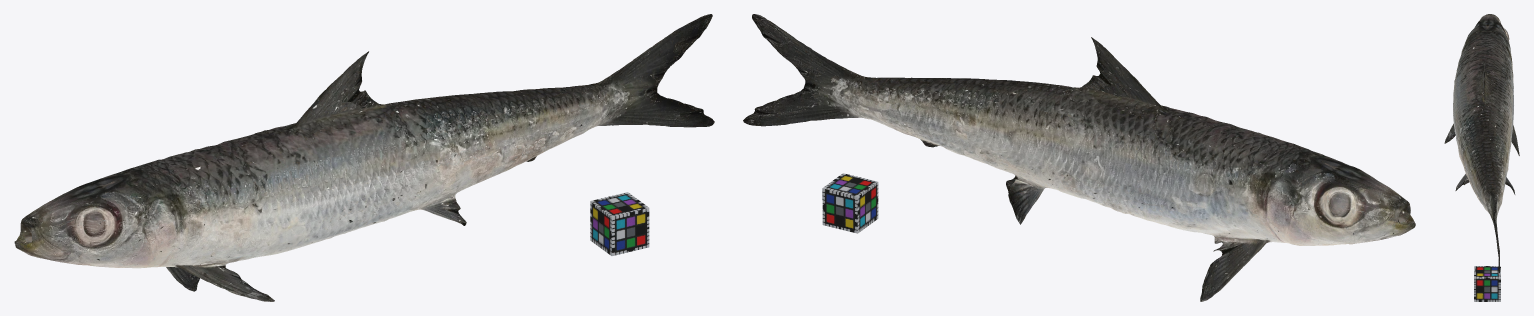
Rendered from scan_roundherring.glb.
3 renders of one model, left to right at view 1: azimuth 30°, elevation 25°; view 2: azimuth 150°, elevation 25°; view 3: azimuth 270°, elevation 25°, orthographic. The views are drawn at different scales.
Visible parts, largest first — view 1: Object_6, Object_4; view 2: Object_6, Object_4; view 3: Object_6, Object_4.
Boxes of the visible parts, x1=… form: Object_6: x1=14, y1=14, x2=714, y2=301; Object_4: x1=590, y1=192, x2=649, y2=255; Object_6: x1=743, y1=14, x2=1415, y2=301; Object_4: x1=822, y1=173, x2=878, y2=233; Object_6: x1=1444, y1=14, x2=1519, y2=273; Object_4: x1=1474, y1=266, x2=1500, y2=301.
Size of the model in its own units: 11.14 by 3.86 by 1.65.
2 materials, 2 textured.
